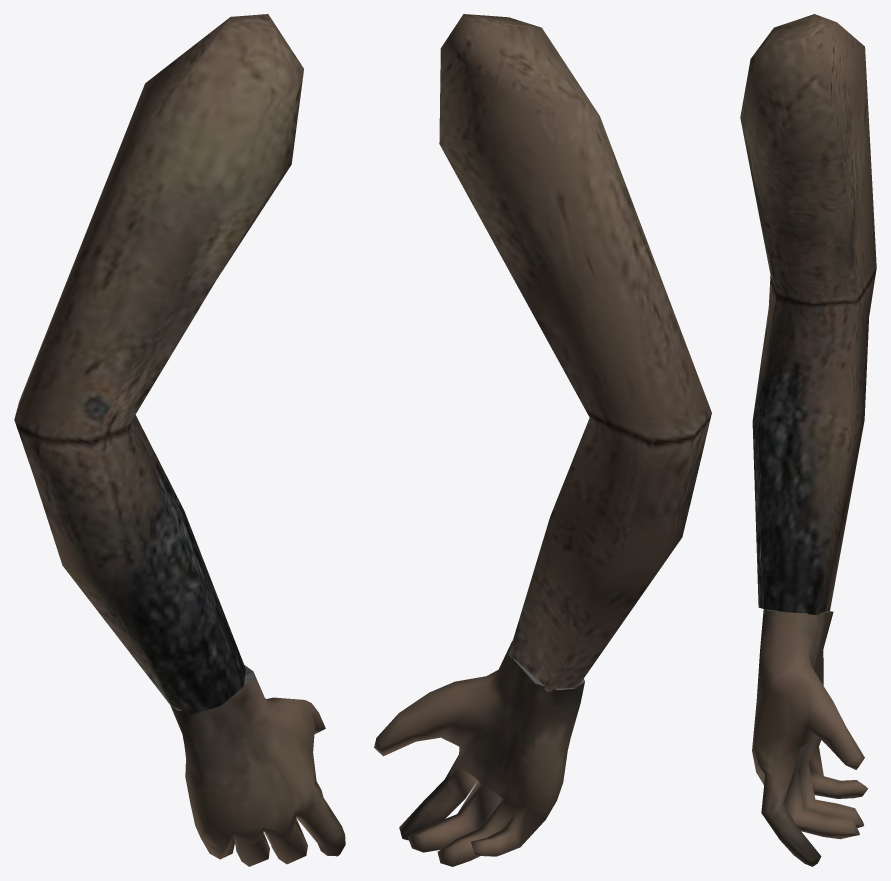
The model's file is mannequin_arm_r.glb.
3 renders of one model, left to right at view 1: azimuth 30°, elevation 25°; view 2: azimuth 150°, elevation 25°; view 3: azimuth 270°, elevation 25°, orthographic. The views are drawn at different scales.
Bounding box in the file's own units: 11.58 × 29.94 × 4.61.
1 material, 1 textured.
